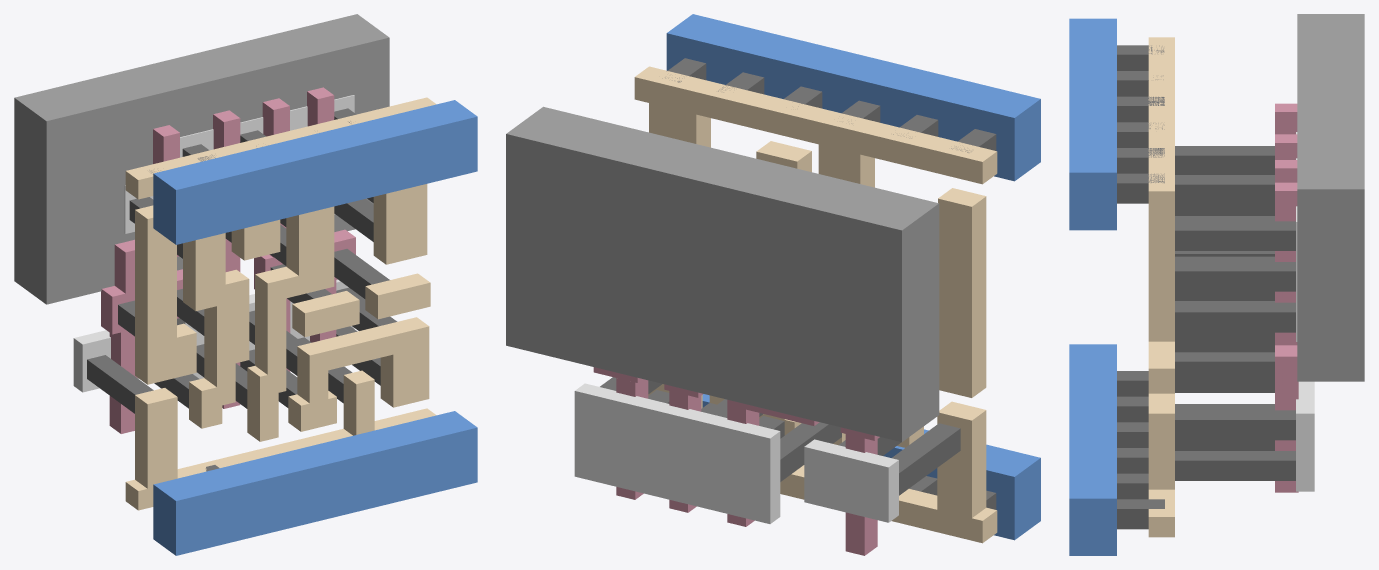
The model's file is sky130_fd_sc_hd__o21bai_1.gds.gltf.
The picture shows the model from 3 angles, left to right: view 1: azimuth 30°, elevation 25°; view 2: azimuth 150°, elevation 25°; view 3: azimuth 270°, elevation 25°; orthographic projection. The views are drawn at different scales.
Parts seen in each view (by area): view 1: sky130_fd_sc_hd__o21bai_1_li1, sky130_fd_sc_hd__o21bai_1_met1, sky130_fd_sc_hd__o21bai_1_nwell, sky130_fd_sc_hd__o21bai_1_licon, sky130_fd_sc_hd__o21bai_1_poly, sky130_fd_sc_hd__o21bai_1_diff; view 2: sky130_fd_sc_hd__o21bai_1_nwell, sky130_fd_sc_hd__o21bai_1_li1, sky130_fd_sc_hd__o21bai_1_diff, sky130_fd_sc_hd__o21bai_1_met1, sky130_fd_sc_hd__o21bai_1_licon, sky130_fd_sc_hd__o21bai_1_poly, sky130_fd_sc_hd__o21bai_1_mcon; view 3: sky130_fd_sc_hd__o21bai_1_licon, sky130_fd_sc_hd__o21bai_1_nwell, sky130_fd_sc_hd__o21bai_1_met1, sky130_fd_sc_hd__o21bai_1_li1, sky130_fd_sc_hd__o21bai_1_mcon, sky130_fd_sc_hd__o21bai_1_poly, sky130_fd_sc_hd__o21bai_1_diff.
Boxes of the visible parts, bbox=[...] form: sky130_fd_sc_hd__o21bai_1_li1: bbox=[125, 97, 436, 510]; sky130_fd_sc_hd__o21bai_1_met1: bbox=[153, 100, 477, 555]; sky130_fd_sc_hd__o21bai_1_nwell: bbox=[14, 14, 389, 304]; sky130_fd_sc_hd__o21bai_1_licon: bbox=[87, 108, 397, 413]; sky130_fd_sc_hd__o21bai_1_poly: bbox=[101, 87, 355, 433]; sky130_fd_sc_hd__o21bai_1_diff: bbox=[73, 95, 354, 392]; sky130_fd_sc_hd__o21bai_1_nwell: bbox=[506, 106, 939, 441]; sky130_fd_sc_hd__o21bai_1_li1: bbox=[634, 66, 997, 543]; sky130_fd_sc_hd__o21bai_1_diff: bbox=[574, 383, 898, 523]; sky130_fd_sc_hd__o21bai_1_met1: bbox=[666, 14, 1040, 540]; sky130_fd_sc_hd__o21bai_1_licon: bbox=[600, 377, 960, 495]; sky130_fd_sc_hd__o21bai_1_poly: bbox=[593, 367, 879, 555]; sky130_fd_sc_hd__o21bai_1_mcon: bbox=[662, 58, 996, 509]; sky130_fd_sc_hd__o21bai_1_licon: bbox=[1175, 146, 1295, 480]; sky130_fd_sc_hd__o21bai_1_nwell: bbox=[1297, 14, 1364, 381]; sky130_fd_sc_hd__o21bai_1_met1: bbox=[1069, 18, 1116, 555]; sky130_fd_sc_hd__o21bai_1_li1: bbox=[1148, 37, 1174, 537]; sky130_fd_sc_hd__o21bai_1_mcon: bbox=[1117, 45, 1164, 529]; sky130_fd_sc_hd__o21bai_1_poly: bbox=[1275, 103, 1298, 492]; sky130_fd_sc_hd__o21bai_1_diff: bbox=[1296, 132, 1314, 491].
Size of the model in its own units: 3.14 by 3.2 by 2.24.
